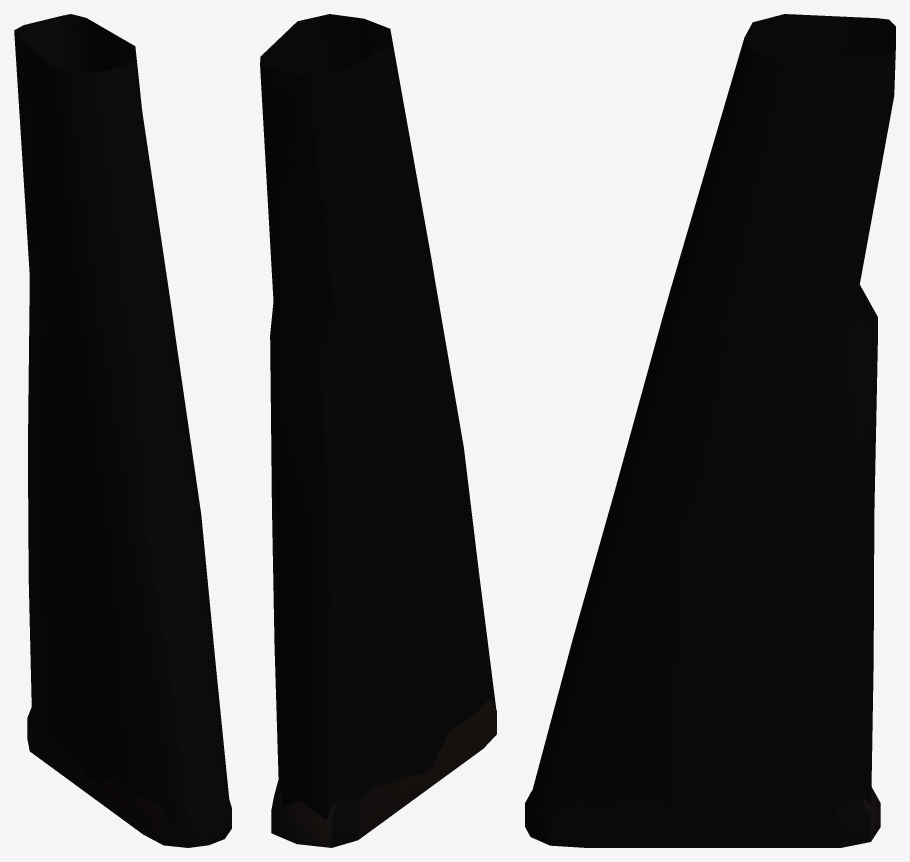
Rendered from Stock_AK74_Polymer.fbx.
The picture shows the model from 3 angles, left to right: view 1: azimuth 30°, elevation 25°; view 2: azimuth 150°, elevation 25°; view 3: azimuth 270°, elevation 25°; orthographic projection. The views are drawn at different scales.
Parts seen in each view (by area): view 1: asset_AK74.002; view 2: asset_AK74.002; view 3: asset_AK74.002.
Boxes of the visible parts, box(x1,y1,x2,y2) form: asset_AK74.002: box(14, 14, 231, 847); asset_AK74.002: box(260, 14, 496, 847); asset_AK74.002: box(525, 14, 895, 847).
Bounding box in the file's own units: 0.0203 × 0.1507 × 0.0641.
